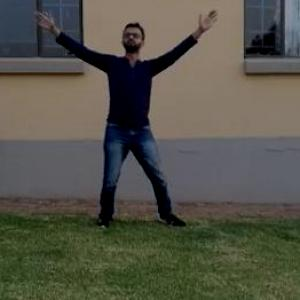takeoff: (45, 5, 239, 254)
